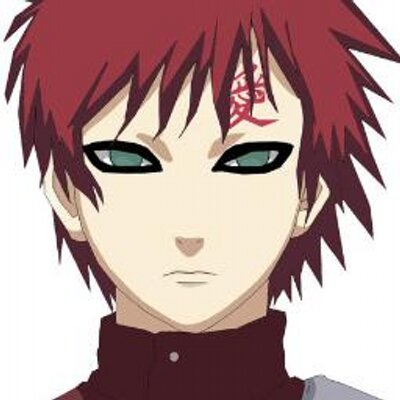gaara: (42, 17, 330, 334)
